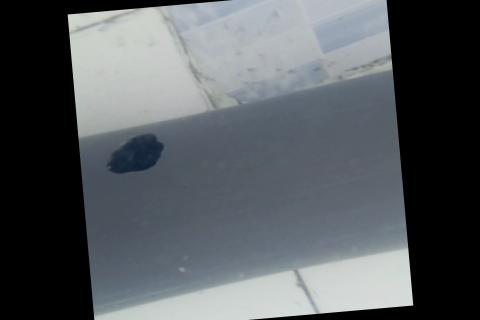kebocoran: (101, 131, 166, 177)
